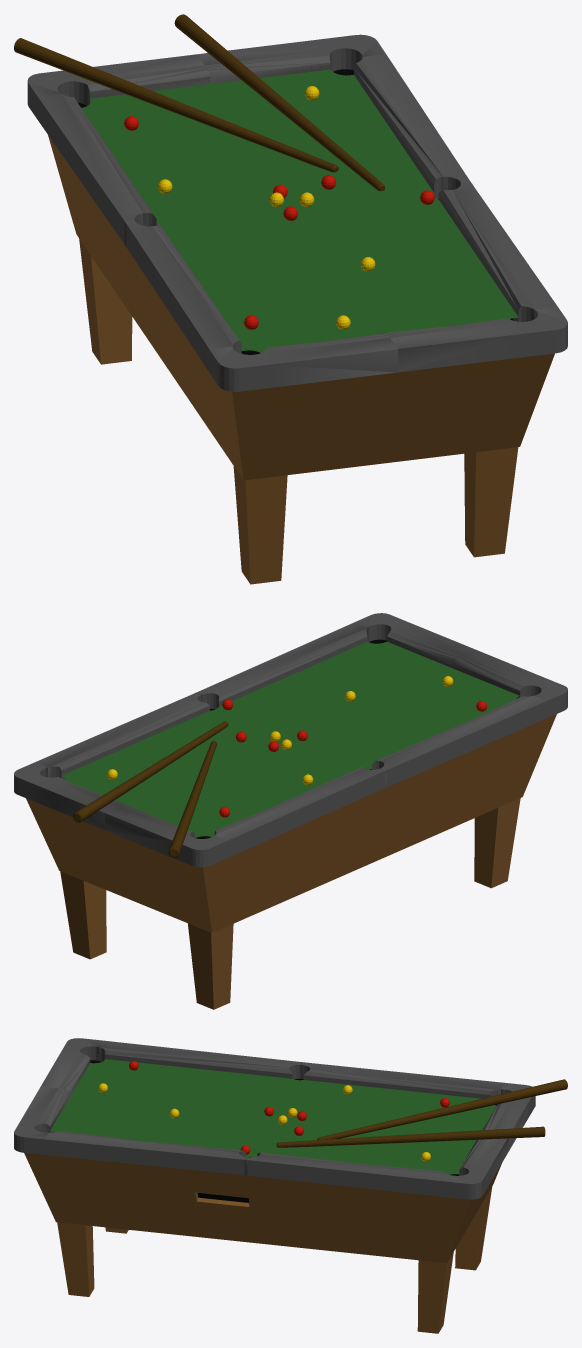
Rendered from Billard_gamejam.fbx.
3 renders of one model, top to bottom at view 1: azimuth 30°, elevation 25°; view 2: azimuth 150°, elevation 25°; view 3: azimuth 270°, elevation 25°, orthographic. The views are drawn at different scales.
Parts seen in each view (by area): view 1: Billard; view 2: Billard; view 3: Billard.
Boxes of the visible parts, left/top/right/bottom form: Billard: left=14, top=14, right=567, bottom=584; Billard: left=14, top=613, right=567, bottom=1009; Billard: left=14, top=1038, right=567, bottom=1333.
Size of the model in its own units: 182 by 104 by 292.
